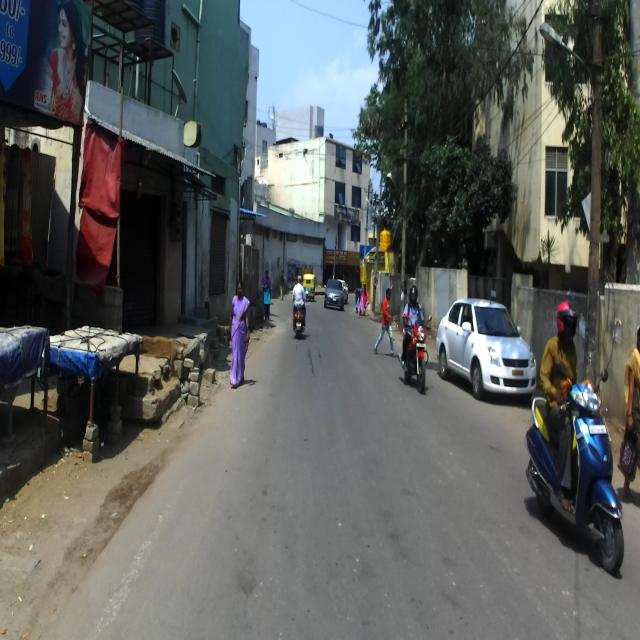car ahead at: (439, 289, 537, 401)
motorcycle ahead at: (527, 384, 627, 581), (398, 317, 432, 393)
person ahead at: (220, 274, 264, 396)
stones ahead at: (175, 334, 220, 409)
